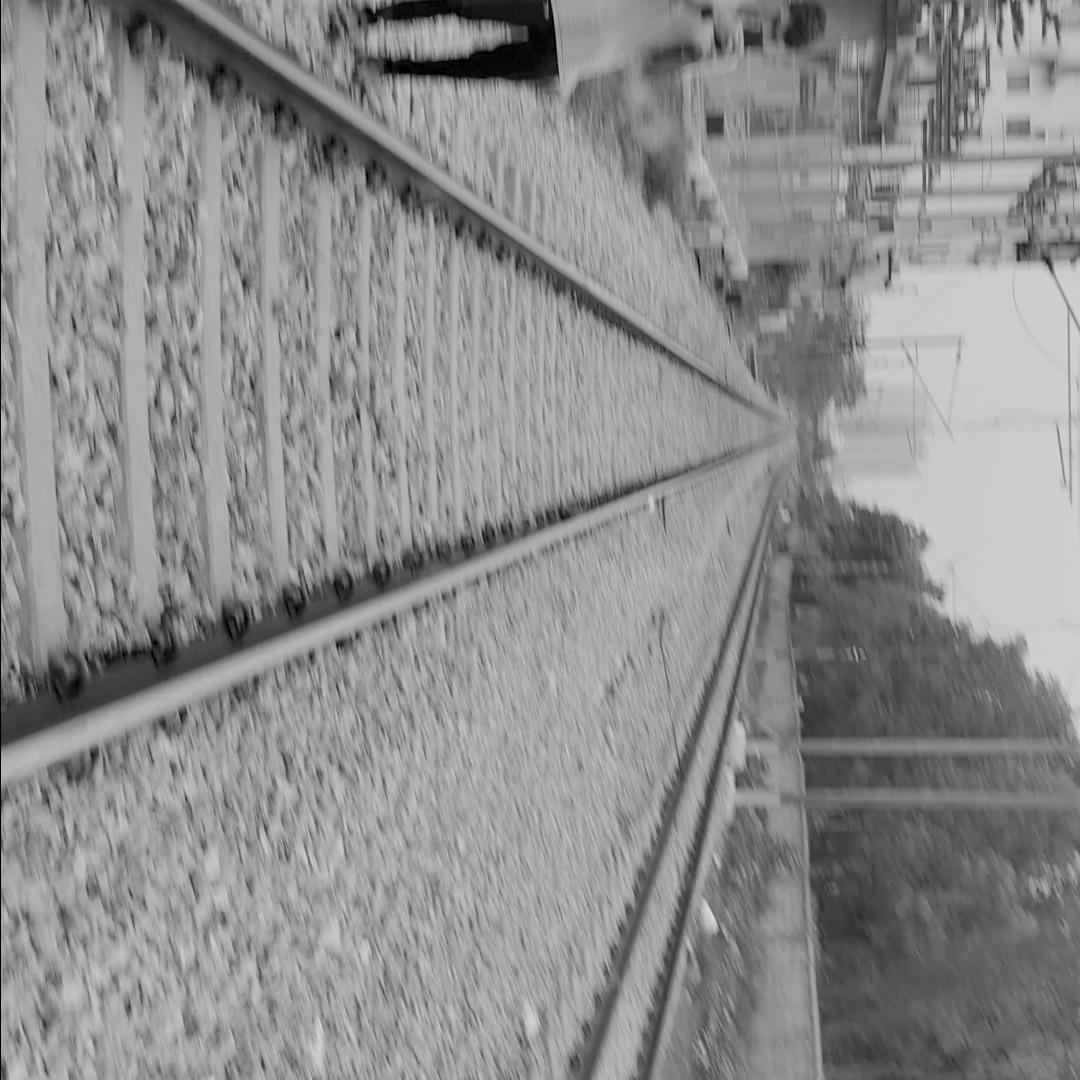standing: (313, 0, 842, 112)
